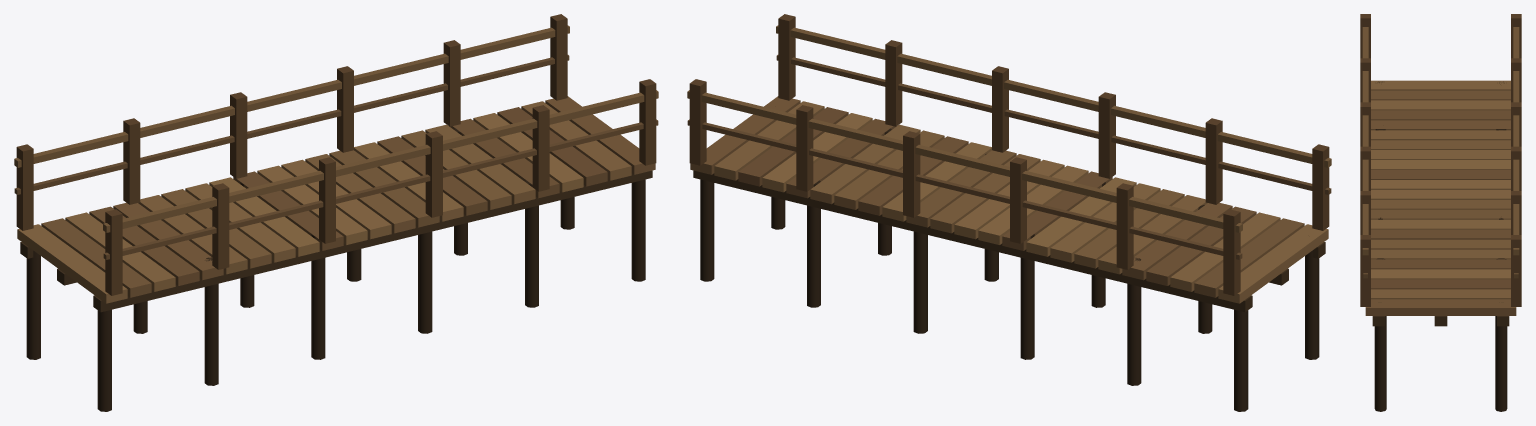
The model's file is bridge.glb.
3 views of the same model, side by side, from view 1: azimuth 30°, elevation 25°; view 2: azimuth 150°, elevation 25°; view 3: azimuth 270°, elevation 25° (orthographic). The views are drawn at different scales.
Size of the model in its own units: 6.1 by 2.14 by 1.82.
